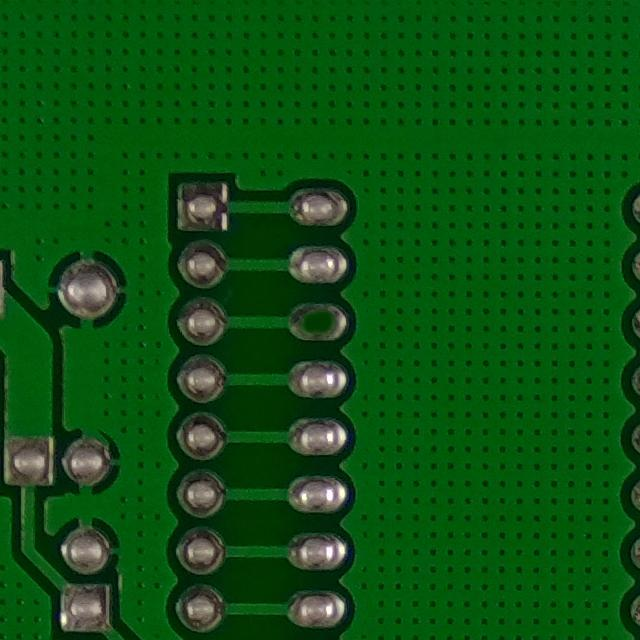missing_hole: (292, 293, 348, 347)
